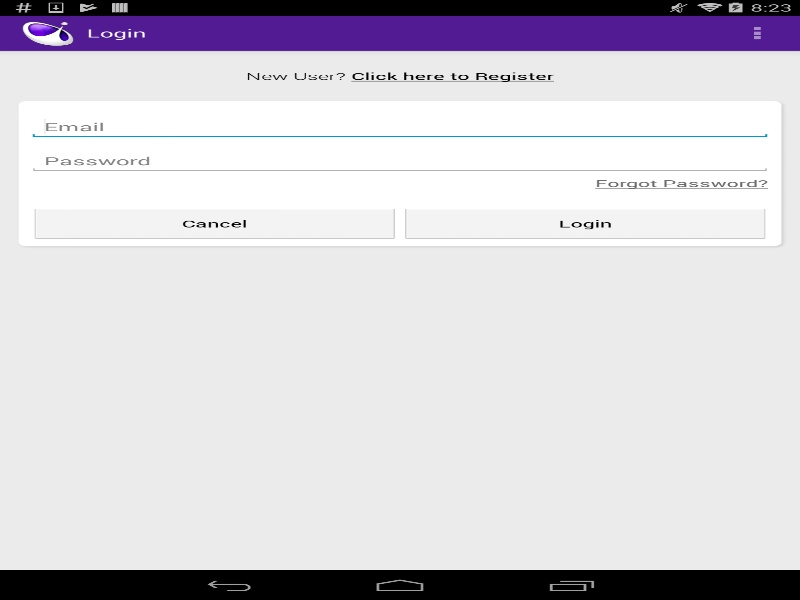Button: (34, 208, 394, 238), (405, 208, 765, 238), (714, 15, 800, 50)
Input: (28, 114, 772, 139), (28, 148, 772, 173)
